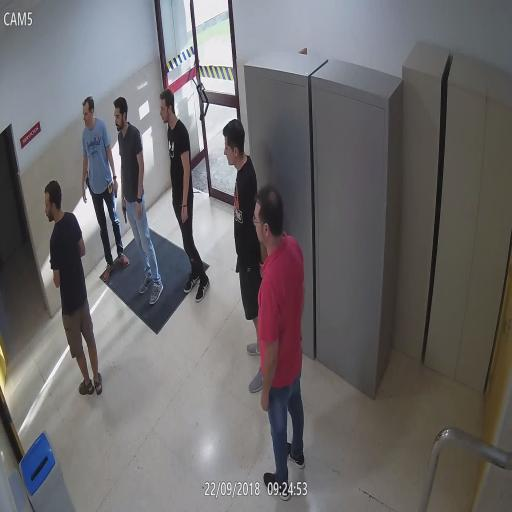Handgun: (120, 195, 128, 225), (84, 168, 91, 196), (235, 250, 240, 274)
